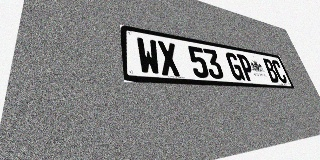3: (202, 48, 225, 79)
5: (187, 46, 210, 78)
B: (262, 58, 280, 83)
C: (271, 60, 288, 83)
G: (225, 52, 245, 81)
P: (236, 54, 256, 81)
W: (136, 37, 162, 75)
X: (157, 40, 181, 77)
